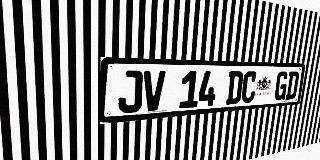1: (179, 71, 200, 109)
4: (198, 71, 218, 107)
C: (240, 71, 258, 103)
D: (226, 71, 244, 105), (285, 71, 300, 100)
G: (274, 71, 289, 101)
J: (118, 70, 143, 114)
V: (142, 71, 166, 112)
